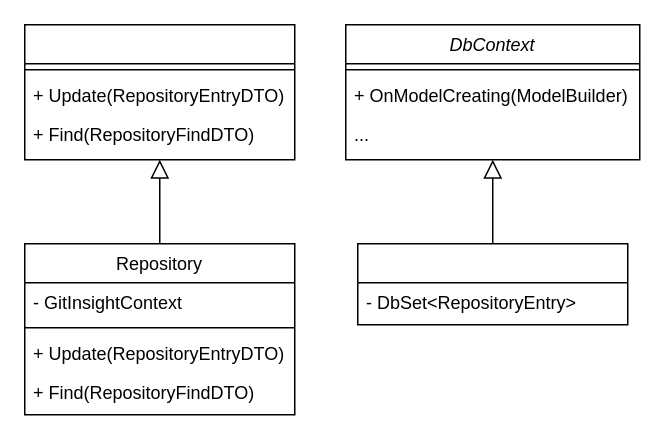
Some shapes in this 665 by 440 pixel diagram are drawn without their labels. Here are the shapes that lost their labels. From the top down, the box of each, then its label:
(23, 23, 295, 160): IRepository
(356, 242, 628, 325): GitInsightContext : DbContext
